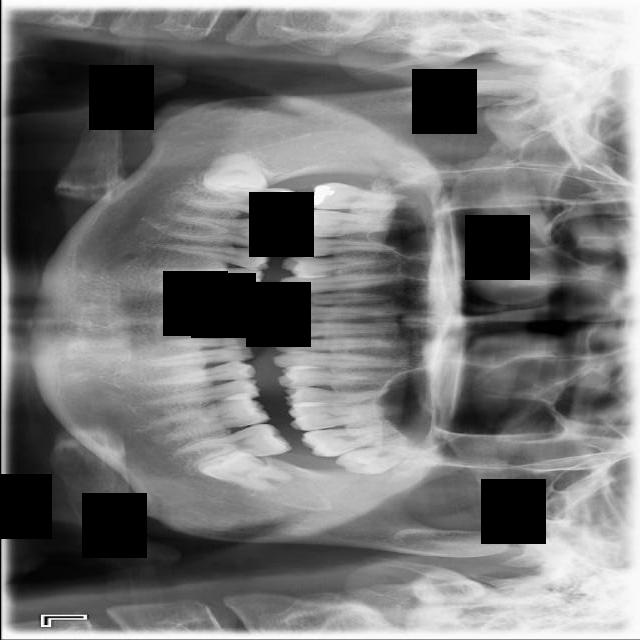52: (259, 181, 302, 223), (302, 180, 335, 209)
73: (96, 567, 102, 571)
BioHorizons Implant: (300, 421, 415, 461)
BioLife Implant: (333, 440, 422, 480)
Biomet 3i Implant: (194, 439, 297, 502)
Blue Sky Bio Implant: (174, 419, 292, 470)
Caries: (305, 183, 418, 210)
Implant: (179, 178, 299, 222)
Keystone Dental Implant: (200, 150, 269, 197)
